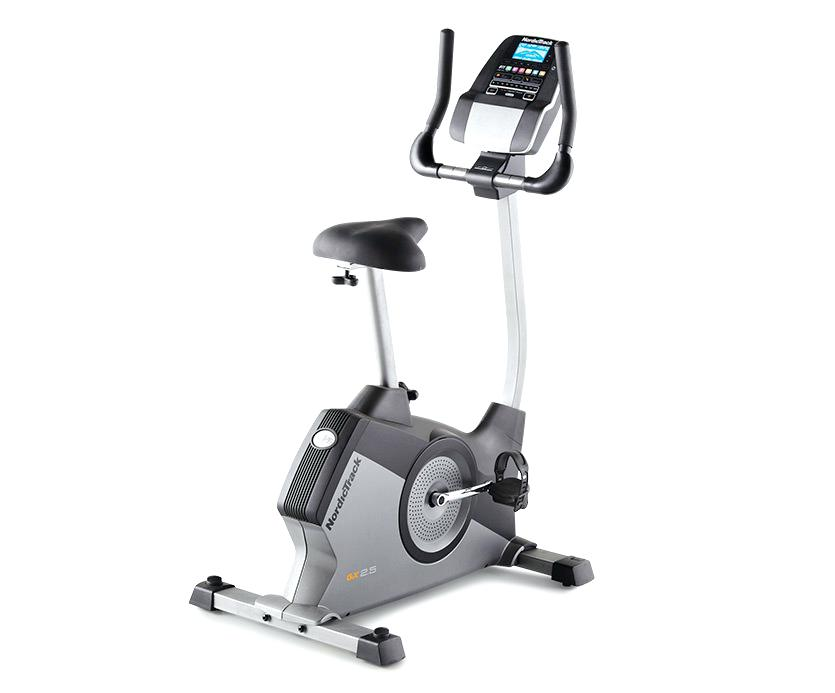gym_bike: (190, 25, 626, 661)
